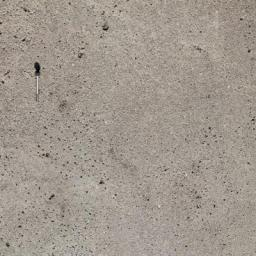FOD: (29, 60, 43, 104)
